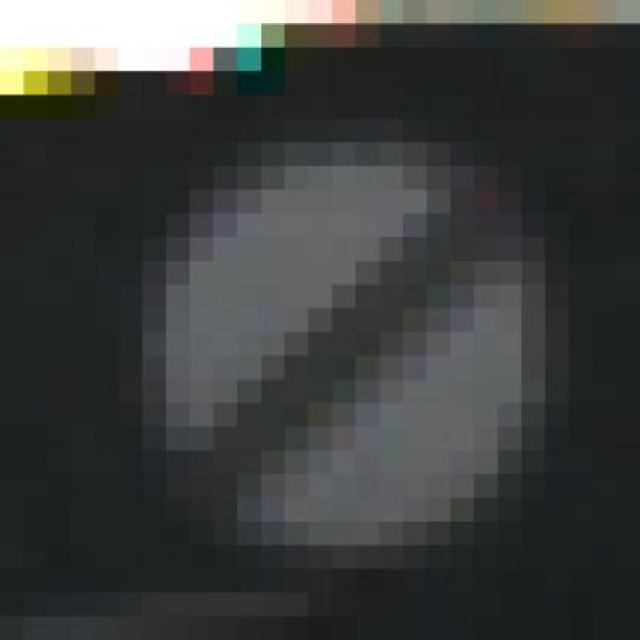End of all speed and passing limits: (94, 94, 568, 568)
